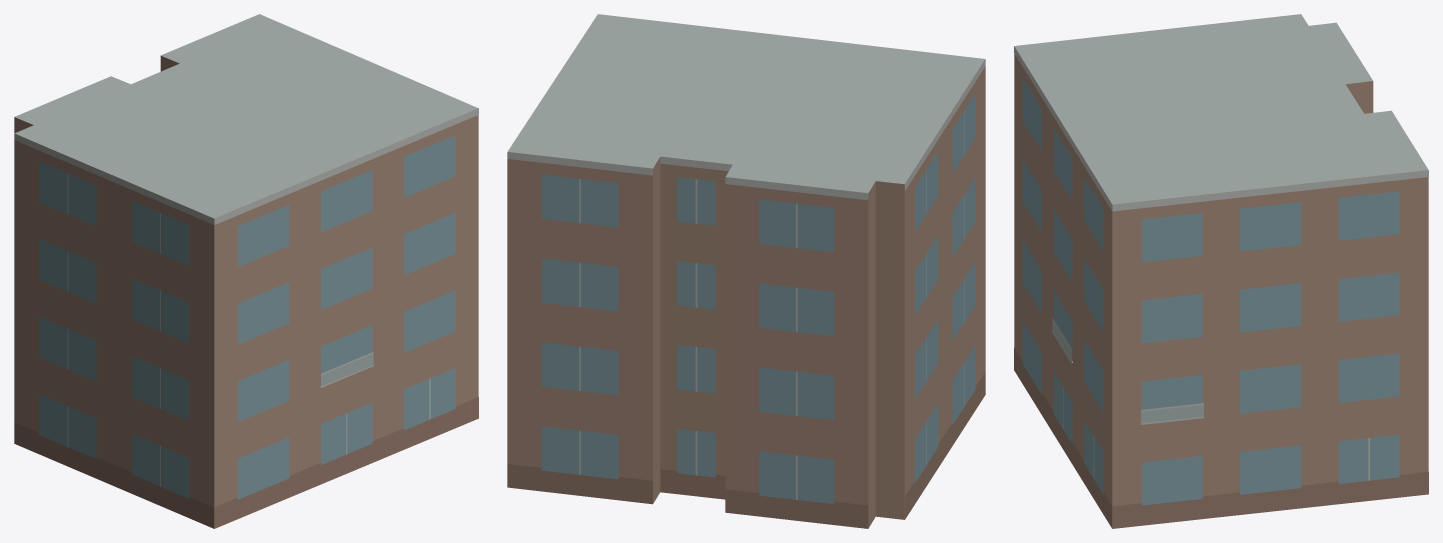
File: survey-upis-32718628.glb
3 views of the same model, side by side, from view 1: azimuth 30°, elevation 25°; view 2: azimuth 150°, elevation 25°; view 3: azimuth 270°, elevation 25° (orthographic). The views are drawn at different scales.
Parts seen in each view (by area): view 1: survey-upis-32718628.tmp; view 2: survey-upis-32718628.tmp; view 3: survey-upis-32718628.tmp.
Part boxes in pixels (box(x1,y1,x2,y2)): survey-upis-32718628.tmp: box(14, 14, 478, 528); survey-upis-32718628.tmp: box(507, 14, 985, 528); survey-upis-32718628.tmp: box(1014, 14, 1428, 528).
Size of the model in its own units: 14.71 by 11.65 by 13.52.
